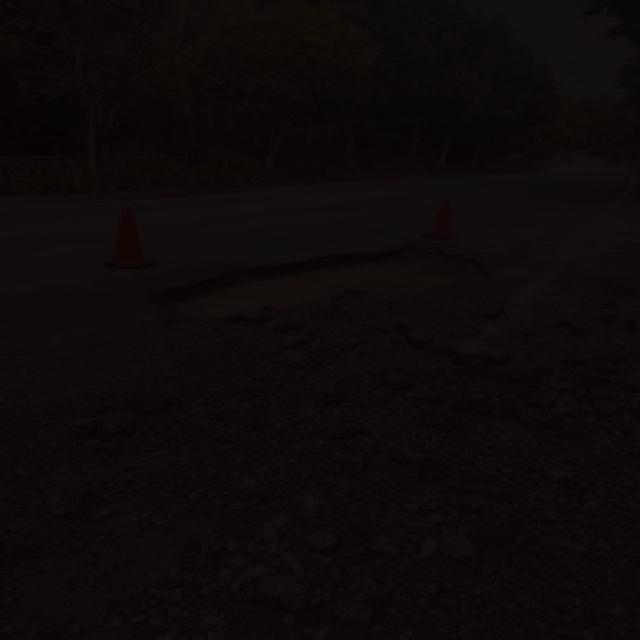Pothole: (25, 374, 640, 640), (155, 235, 494, 338)
